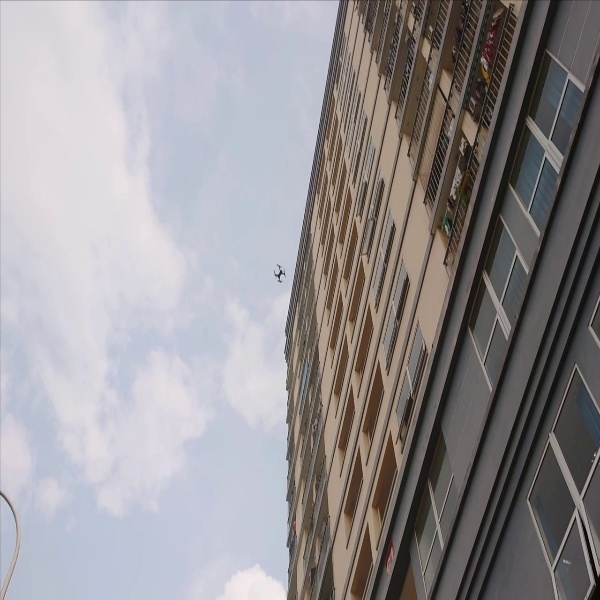drone: (269, 255, 289, 288)
